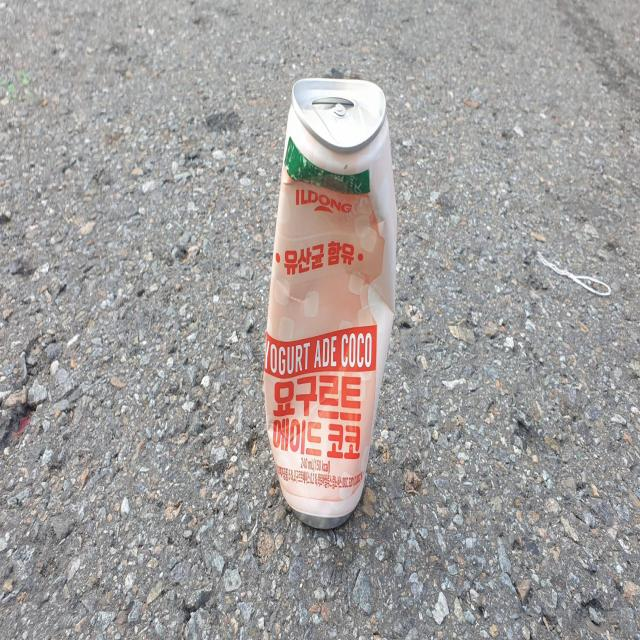can: (264, 76, 397, 528)
